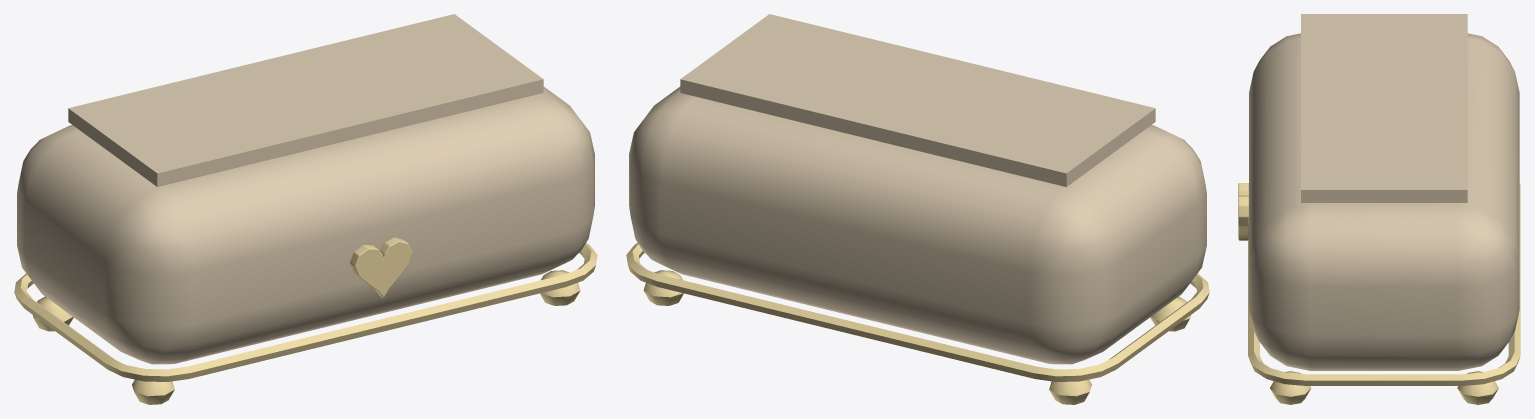
Rendered from ottoman_tufted_blue.glb.
The picture shows the model from 3 angles, left to right: view 1: azimuth 30°, elevation 25°; view 2: azimuth 150°, elevation 25°; view 3: azimuth 270°, elevation 25°; orthographic projection. The views are drawn at different scales.
Parts seen in each view (by area): view 1: ottoman_tufted_blue; view 2: ottoman_tufted_blue; view 3: ottoman_tufted_blue.
Boxes of the visible parts, x1,y1,x2,y2 form: ottoman_tufted_blue: [14, 14, 597, 404]; ottoman_tufted_blue: [626, 14, 1209, 404]; ottoman_tufted_blue: [1238, 14, 1520, 404].
Bounding box in the file's own units: 1 × 0.442 × 0.5414.
